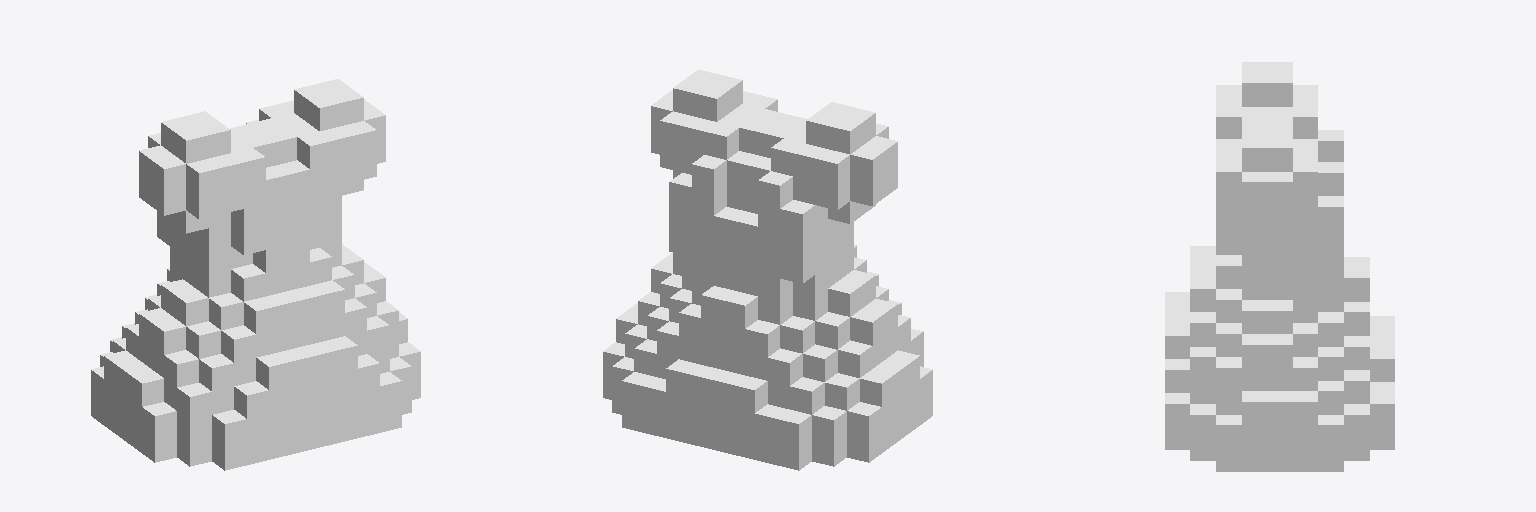
Rendered from CORPS.obj.
3 renders of one model, left to right at view 1: azimuth 30°, elevation 25°; view 2: azimuth 150°, elevation 25°; view 3: azimuth 270°, elevation 25°, orthographic.
Visible parts, largest first — view 1: object 1; view 2: object 1; view 3: object 1.
Boxes of the visible parts, x1=… form: object 1: x1=91, y1=79, x2=420, y2=470; object 1: x1=603, y1=69, x2=932, y2=470; object 1: x1=1165, y1=62, x2=1394, y2=471.
Size of the model in its own units: 1.2 by 1.3 by 0.9.